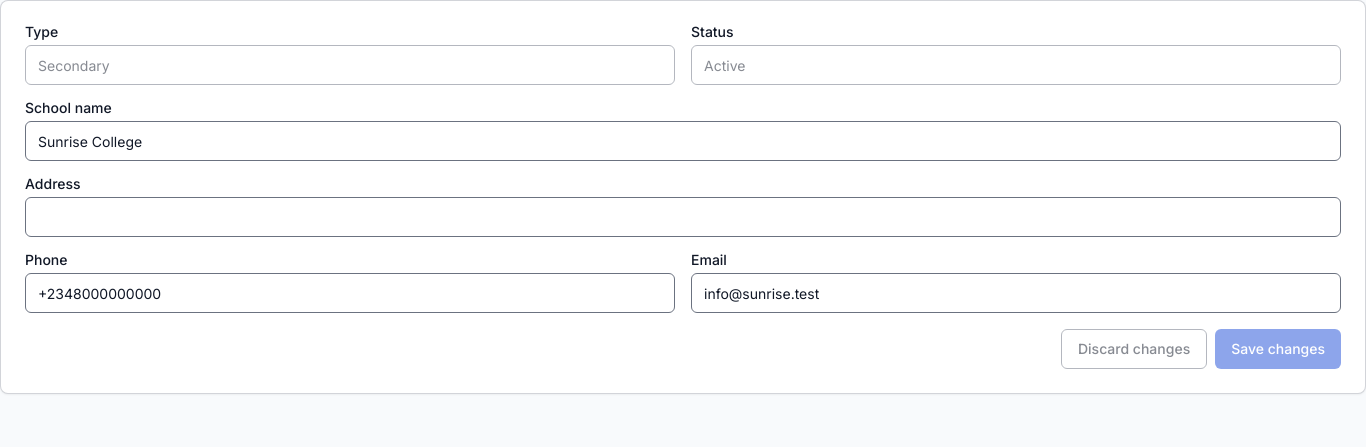
Test: SchoolProfilePage › SCHOOL_ADMIN can edit and save the school profile
This screenshot has width=1366, height=447.
Type "12 Freedom Way, Lekki" into the field labelled "Address". click: point(683, 217)
box: top-left (25, 197), bottom-right (1341, 237)
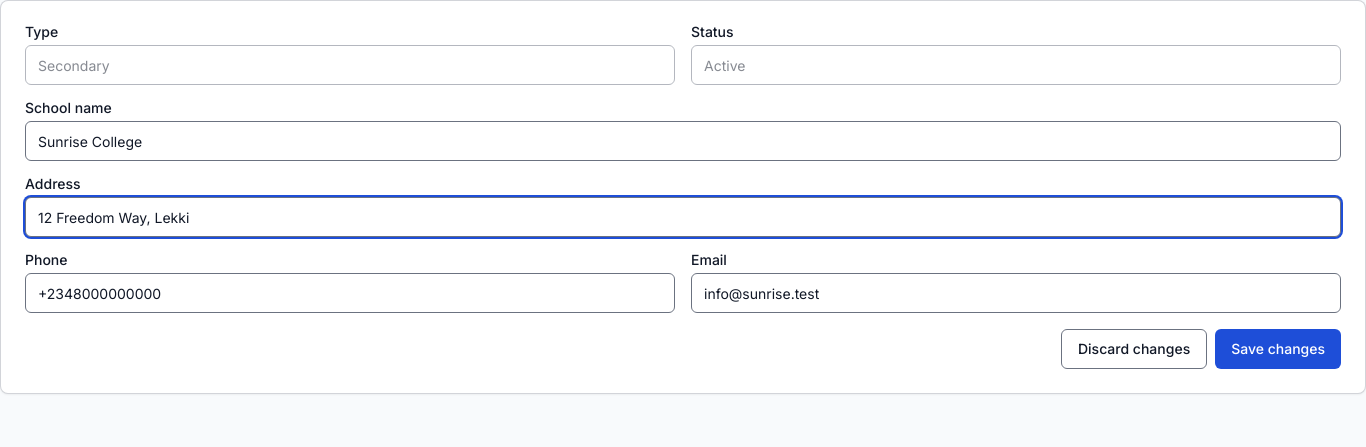
Click the button "Save changes". click: point(1278, 349)
box: top-left (1215, 329), bottom-right (1341, 369)
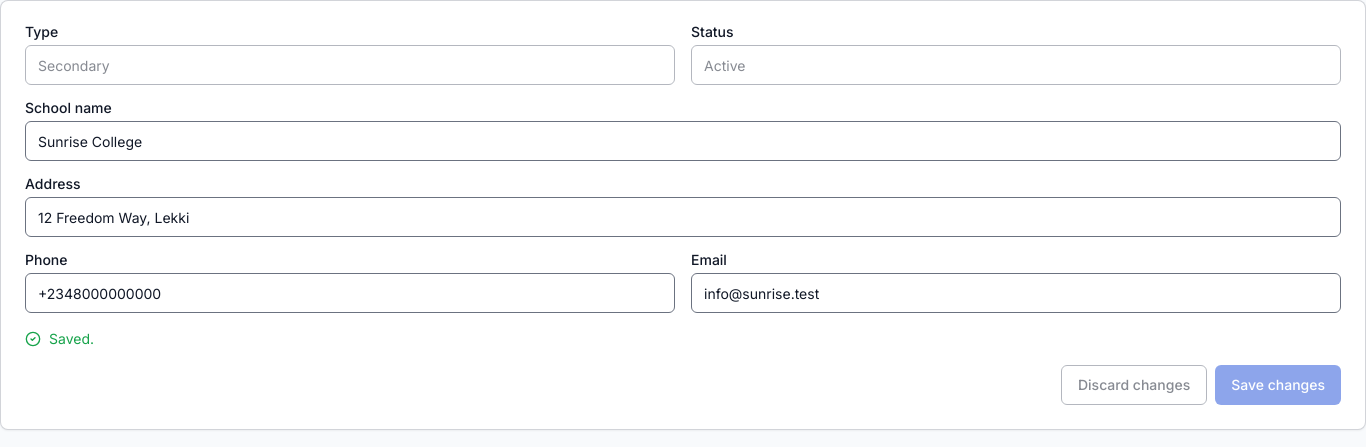
Check: the text "Saved." is shown, box top-left (25, 330), bottom-right (94, 347)
